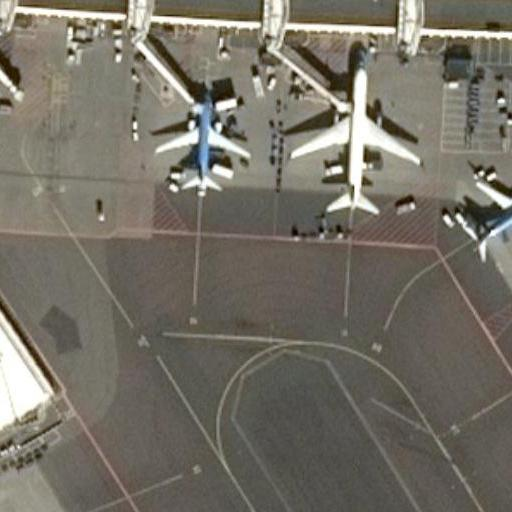Aircraft: (285, 62, 421, 220), (151, 85, 254, 197), (456, 169, 512, 265)
